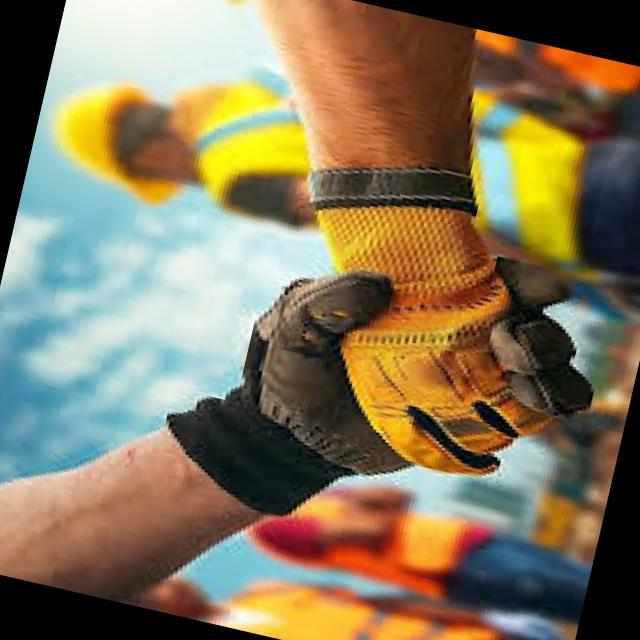gloved: (237, 140, 591, 490), (141, 249, 416, 538)
